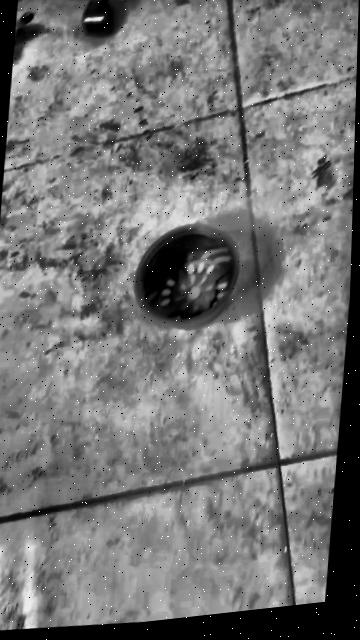pot: (129, 216, 241, 335)
